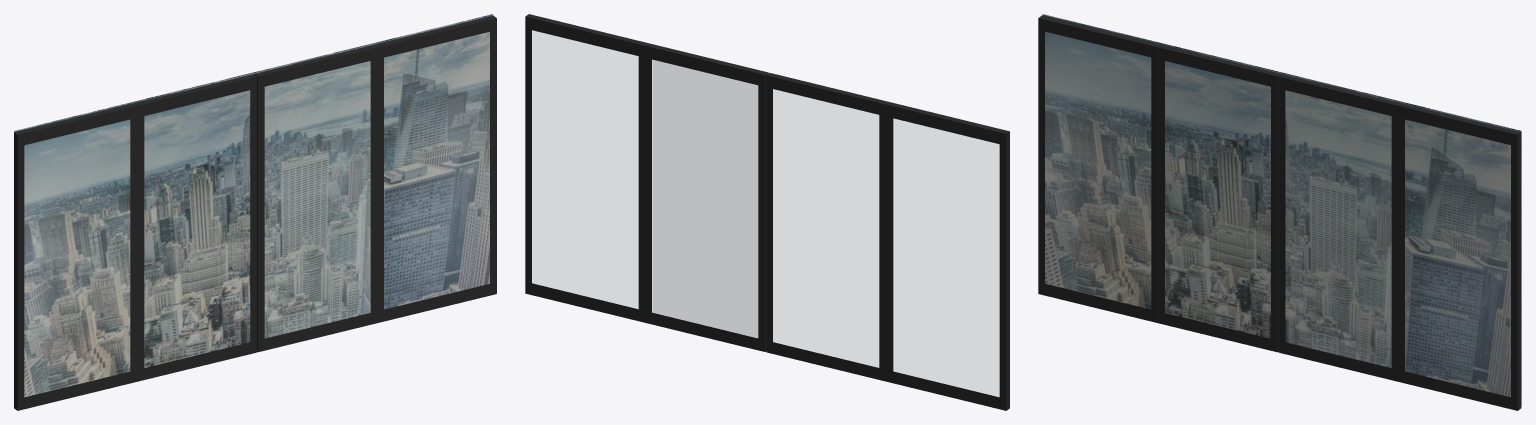
Rendered from finestre.glb.
3 views of the same model, side by side, from view 1: azimuth 30°, elevation 25°; view 2: azimuth 150°, elevation 25°; view 3: azimuth 330°, elevation 25° (orthographic).
Visible parts, largest first — view 1: Wandbild-Fotodruck-Keilrahmen-Bild-New-York-Skyl_1.jpg, object 1, object 3, object 6, object 8, object 10, object 4, object 5, object 2, object 7; view 2: object 8, object 3, object 1, object 6, object 10, object 4, object 5, object 7, object 2; view 3: Wandbild-Fotodruck-Keilrahmen-Bild-New-York-Skyl_1.jpg, object 1, object 3, object 6, object 8, object 10, object 7, object 5, object 2, object 4.
Boxes of the visible parts, left/top/right/bottom form: Wandbild-Fotodruck-Keilrahmen-Bild-New-York-Skyl_1.jpg: left=14, top=14, right=493, bottom=397; object 1: left=144, top=90, right=249, bottom=367; object 3: left=24, top=120, right=129, bottom=396; object 6: left=265, top=61, right=370, bottom=337; object 8: left=384, top=32, right=489, bottom=308; object 10: left=265, top=61, right=369, bottom=337; object 4: left=14, top=103, right=137, bottom=410; object 5: left=254, top=44, right=377, bottom=352; object 2: left=134, top=74, right=256, bottom=381; object 7: left=374, top=15, right=496, bottom=322; object 8: left=532, top=31, right=638, bottom=308; object 3: left=893, top=119, right=999, bottom=396; object 1: left=773, top=89, right=878, bottom=367; object 6: left=652, top=60, right=757, bottom=337; object 10: left=653, top=60, right=757, bottom=337; object 4: left=886, top=102, right=1009, bottom=410; object 5: left=645, top=43, right=768, bottom=351; object 7: left=525, top=14, right=648, bottom=322; object 2: left=766, top=73, right=889, bottom=381; Wandbild-Fotodruck-Keilrahmen-Bild-New-York-Skyl_1.jpg: left=1042, top=14, right=1521, bottom=406; object 1: left=1165, top=61, right=1270, bottom=338; object 3: left=1045, top=32, right=1150, bottom=308; object 6: left=1286, top=91, right=1391, bottom=367; object 8: left=1405, top=120, right=1510, bottom=396; object 10: left=1286, top=91, right=1390, bottom=367; object 7: left=1398, top=103, right=1521, bottom=410; object 5: left=1278, top=74, right=1401, bottom=381; object 2: left=1158, top=45, right=1281, bottom=352; object 4: left=1038, top=15, right=1160, bottom=322.
Bounding box in the file's own units: 0.1593 × 0.0881 × 0.00217.
4 materials, 1 textured.
